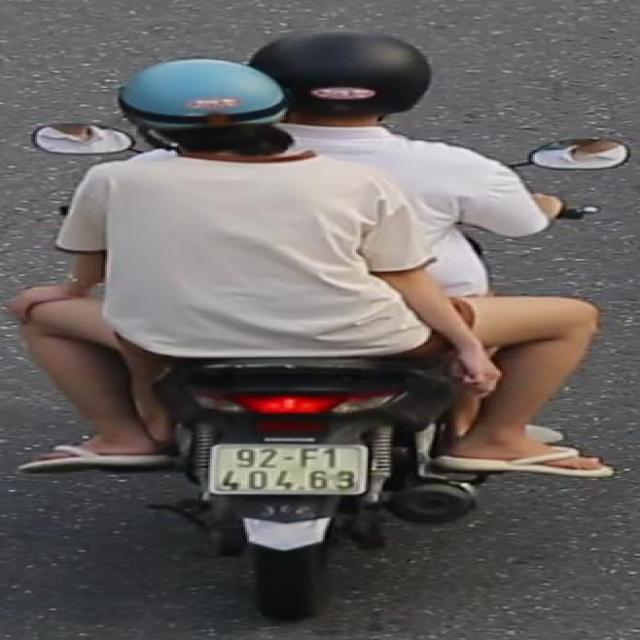LP: (202, 441, 376, 502)
helmet: (117, 53, 296, 149)
